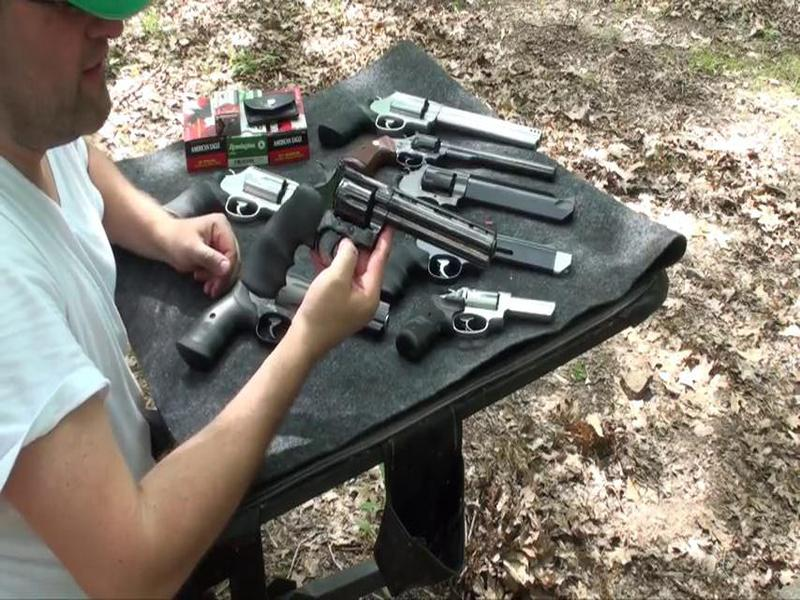Revolver: (220, 161, 524, 328)
